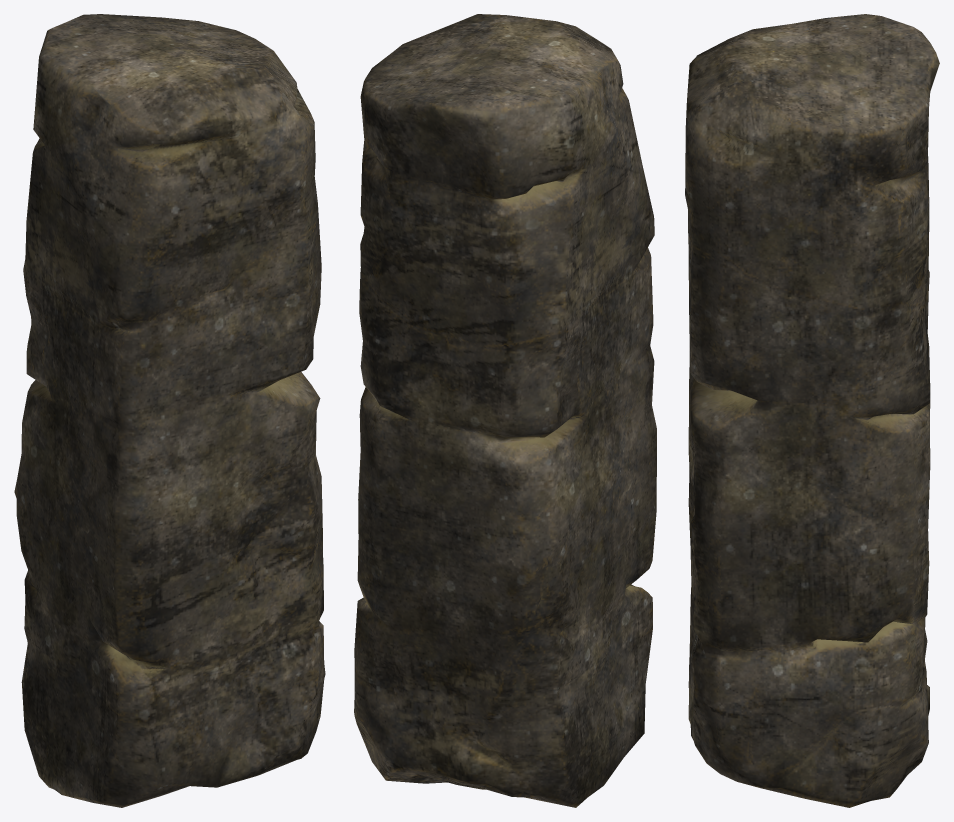
Rendered from Rock_9.fbx.
3 renders of one model, left to right at view 1: azimuth 30°, elevation 25°; view 2: azimuth 150°, elevation 25°; view 3: azimuth 270°, elevation 25°, orthographic. The views are drawn at different scales.
Parts seen in each view (by area): view 1: Rock_9_Baked; view 2: Rock_9_Baked; view 3: Rock_9_Baked.
Boxes of the visible parts, x1,y1,x2,y2 form: Rock_9_Baked: [14, 14, 325, 807]; Rock_9_Baked: [354, 14, 656, 807]; Rock_9_Baked: [685, 14, 939, 807].
Bounding box in the file's own units: 3.35 × 3.36 × 10.33.
Materials: 1 (1 with a texture image).
